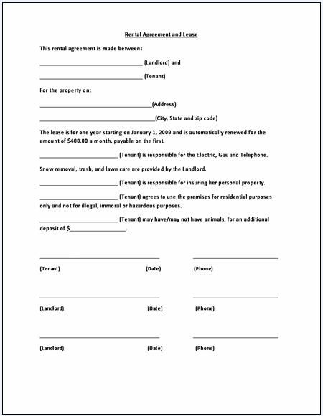textline: (37, 244, 161, 261), (38, 285, 161, 300), (39, 326, 161, 341), (192, 243, 278, 261), (191, 284, 280, 301), (37, 111, 156, 123), (191, 325, 280, 341), (38, 55, 143, 67), (38, 70, 143, 81), (37, 98, 151, 108), (37, 174, 118, 188), (36, 212, 118, 224), (37, 148, 118, 159), (37, 192, 118, 202), (71, 223, 126, 234)
